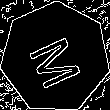M_NE: (23, 26, 87, 89)
